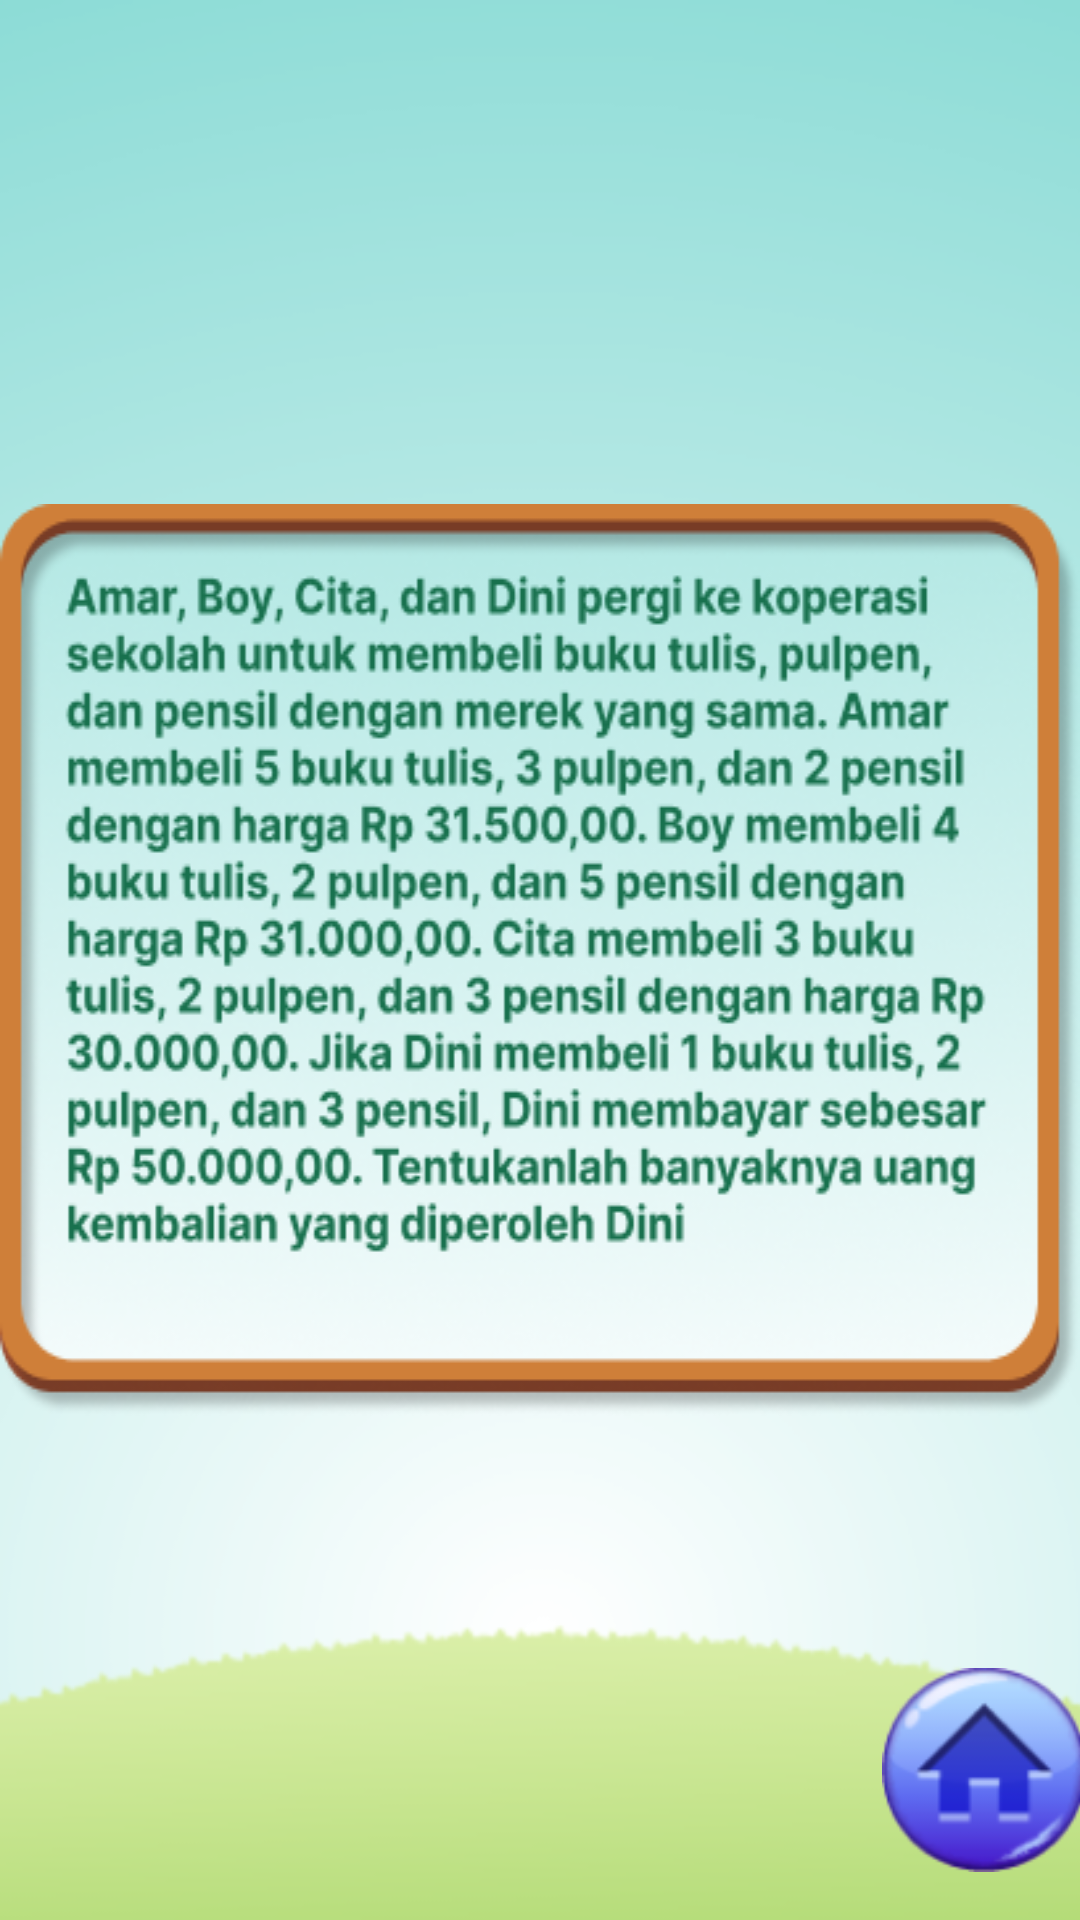

Icons on this 1080 x 1920 Android screen, each with the point to tap as [x,y]:
Home: [981,1770]
